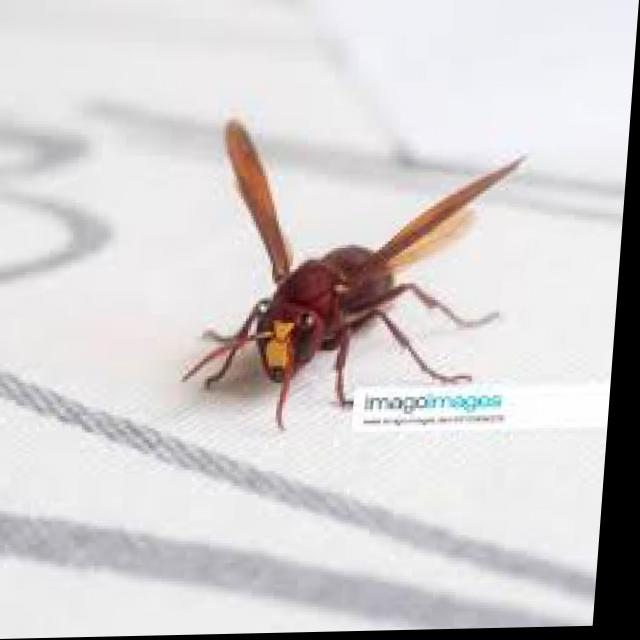Vespa Orientalis: (138, 93, 562, 446)
